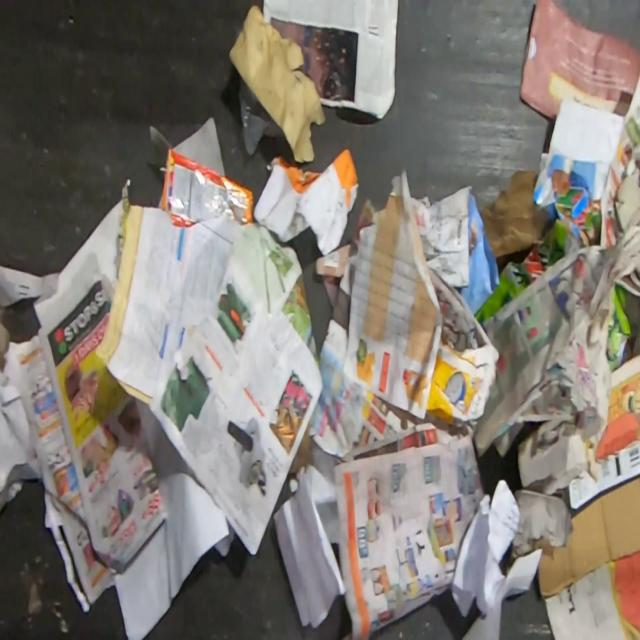cardboard: (473, 186, 600, 323), (228, 3, 327, 164), (531, 473, 640, 600), (516, 412, 598, 496), (566, 441, 640, 509), (508, 487, 571, 566), (148, 114, 227, 175), (606, 281, 633, 372), (614, 173, 640, 266)
soft_plastic: (156, 147, 255, 228), (237, 71, 285, 159)
